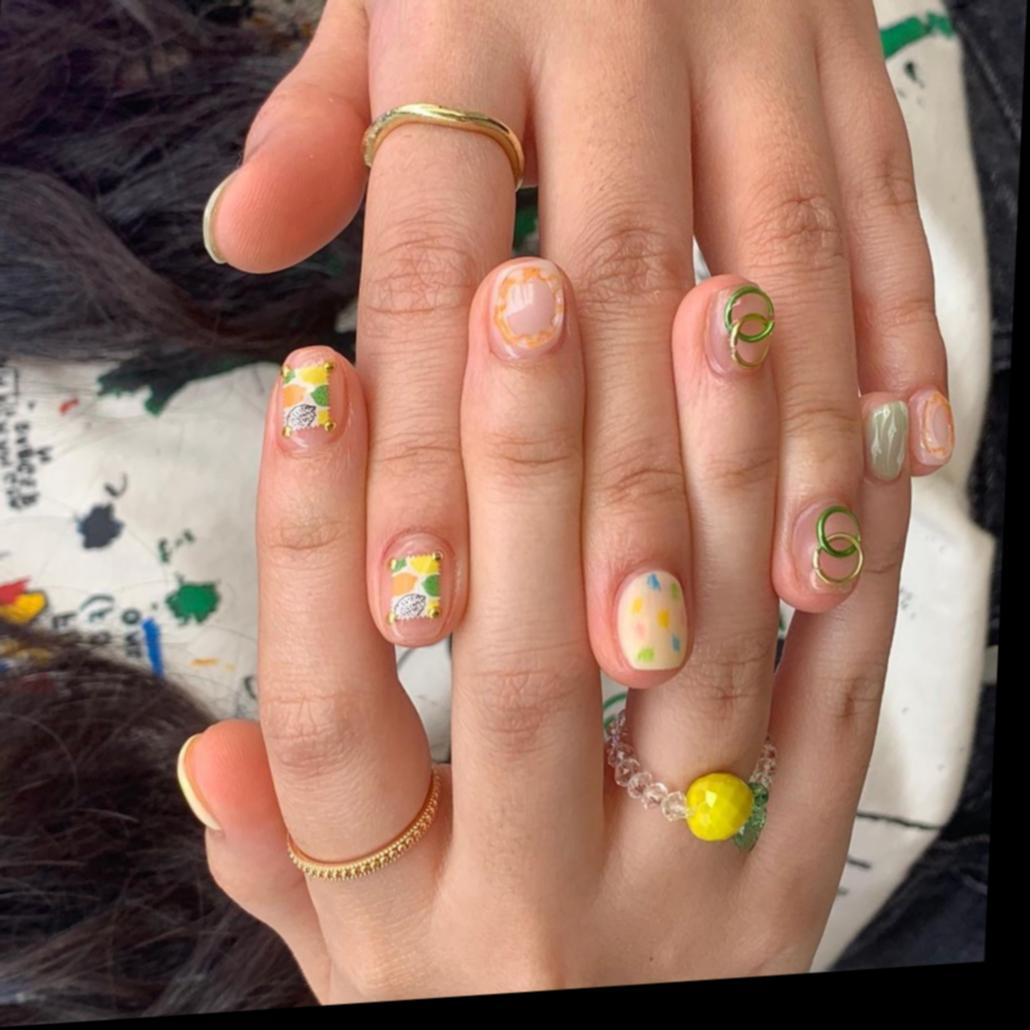nail: (481, 253, 569, 365), (608, 564, 692, 676), (271, 342, 351, 457), (380, 532, 453, 646), (787, 498, 865, 595), (701, 279, 776, 376), (856, 392, 909, 484), (902, 385, 956, 473)
